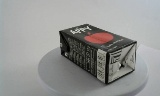appy: (54, 23, 129, 85)
